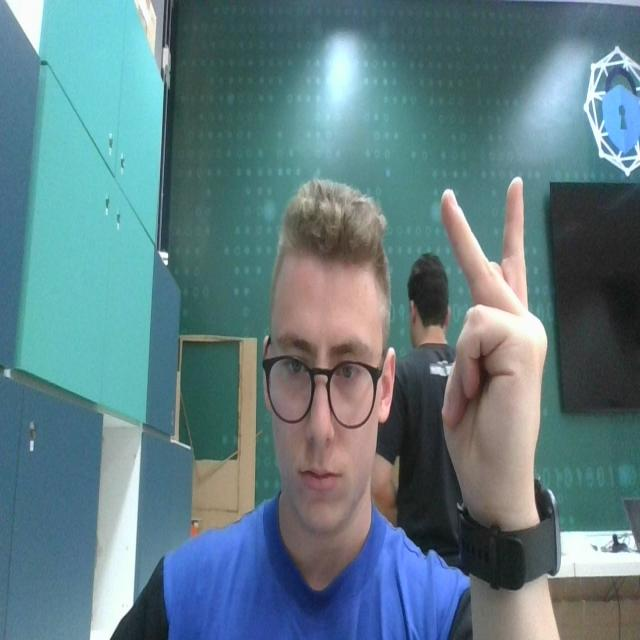K: (439, 169, 547, 521)
